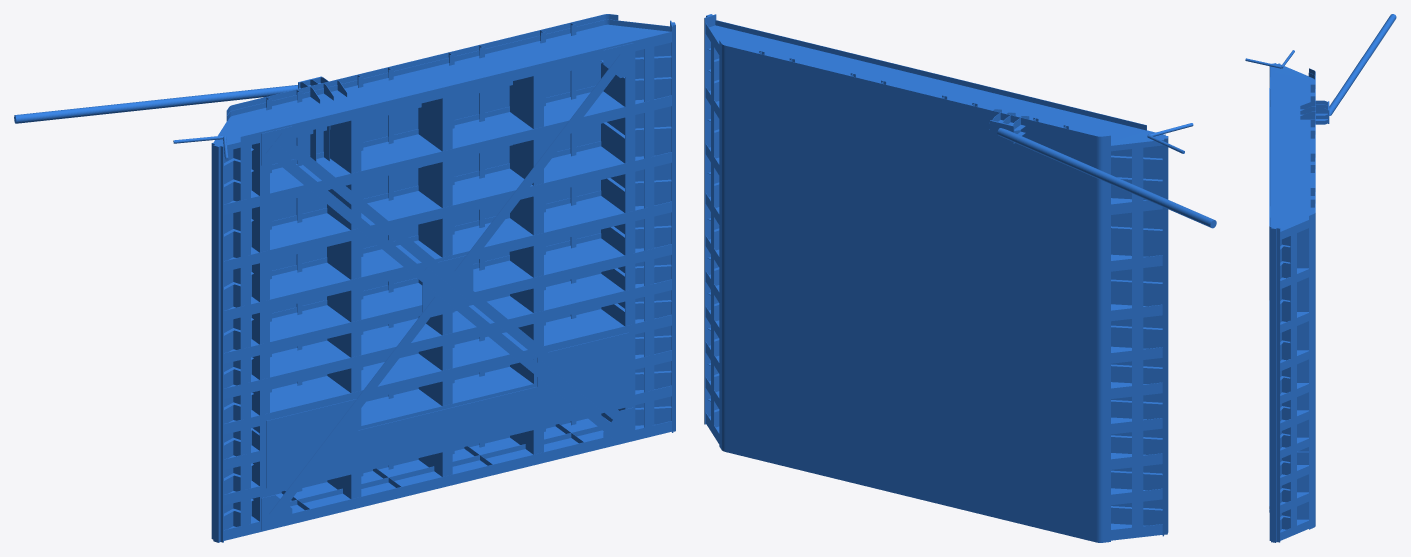
3 renders of one model, left to right at view 1: azimuth 30°, elevation 25°; view 2: azimuth 150°, elevation 25°; view 3: azimuth 270°, elevation 25°, orthographic. The views are drawn at different scales.
Visible parts, largest first — view 1: 3d; view 2: 3d; view 3: 3d.
Part boxes in pixels (box(x1,y1,x2,y2)): 3d: box(14, 14, 675, 542); 3d: box(704, 14, 1216, 542); 3d: box(1245, 14, 1396, 542).
Bounding box in the file's own units: 17291 × 11480 × 5007.
